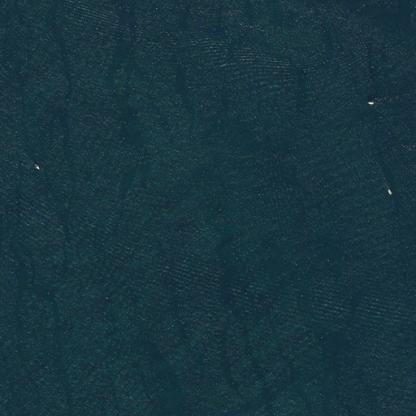ship: (28, 158, 44, 174), (363, 95, 377, 108), (383, 183, 394, 197)
